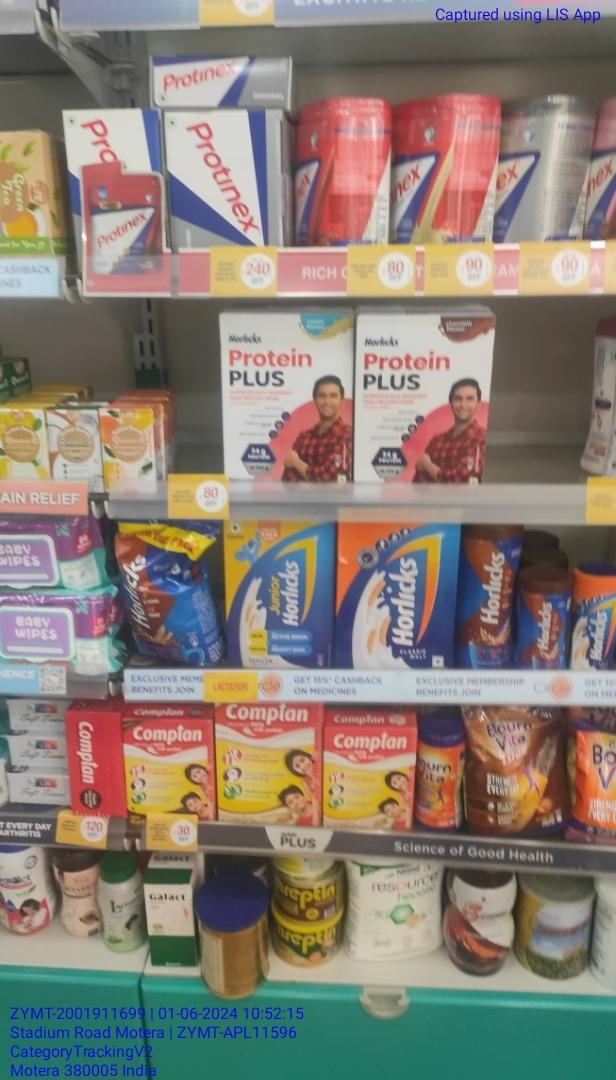BOURN_VITA_200_G_JAR: (417, 732, 457, 831)
BOURN_VITA_FIVE_STAR_MAGIC_750_G_POUCH: (469, 708, 565, 835)
COMPLAN_CHOCOLATE_200_GMS_PACK: (122, 720, 214, 821)
COMPLAN_KESAR_BADAM_200_GMS_PACK: (328, 728, 412, 830)
COMPLAN_KESAR_BADAM_500_GMS_PACK: (217, 703, 319, 826)
HORLICK_CHOCOLATE_200_G_JAR: (519, 572, 571, 670)
HORLICK_CHOCOLATE_500_G_JAR: (461, 522, 518, 669)
HORLICK_CHOCOLATE_750_G_POUCH: (116, 517, 194, 664)
HORLICK_CLASSIC_MALT_200_G_JAR: (576, 571, 616, 674)
HORLICK_CLASSIC_MALT_500_G_PACK: (337, 505, 453, 671)
